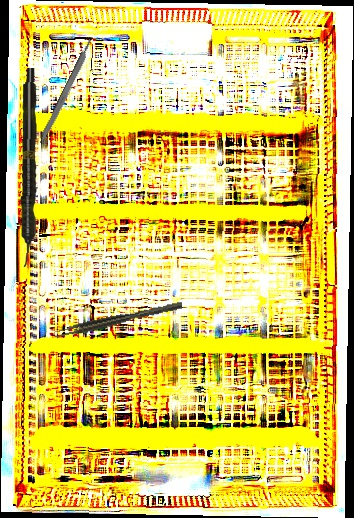Handpiece: (18, 67, 39, 268)
Scalpel Handle: (37, 38, 96, 146)
Tissue Forceps: (53, 301, 184, 340)
